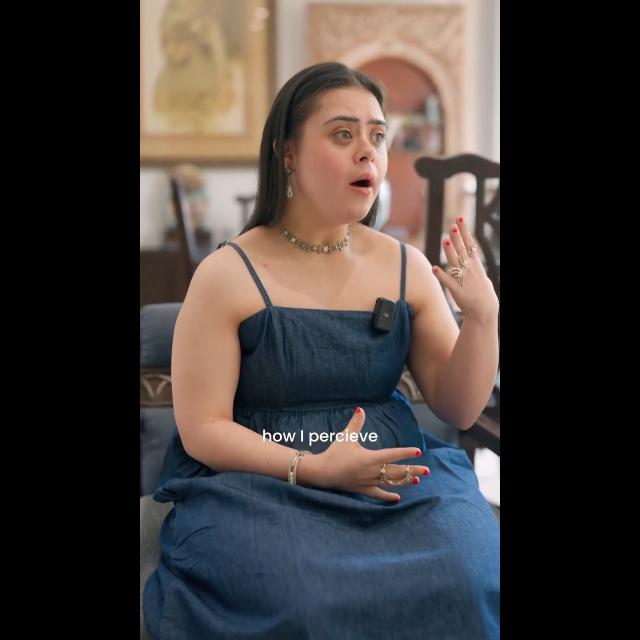dress: (160, 238, 500, 630)
ear ring: (282, 164, 304, 206)
